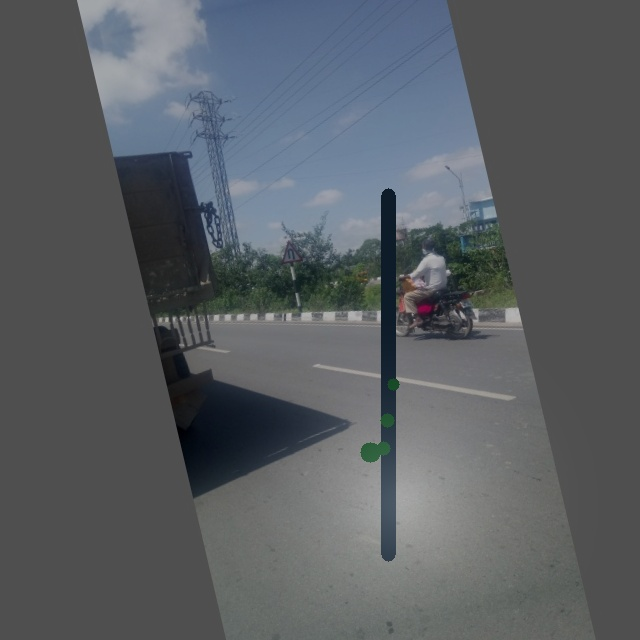U_Turn_Ahead: (272, 232, 310, 272)
